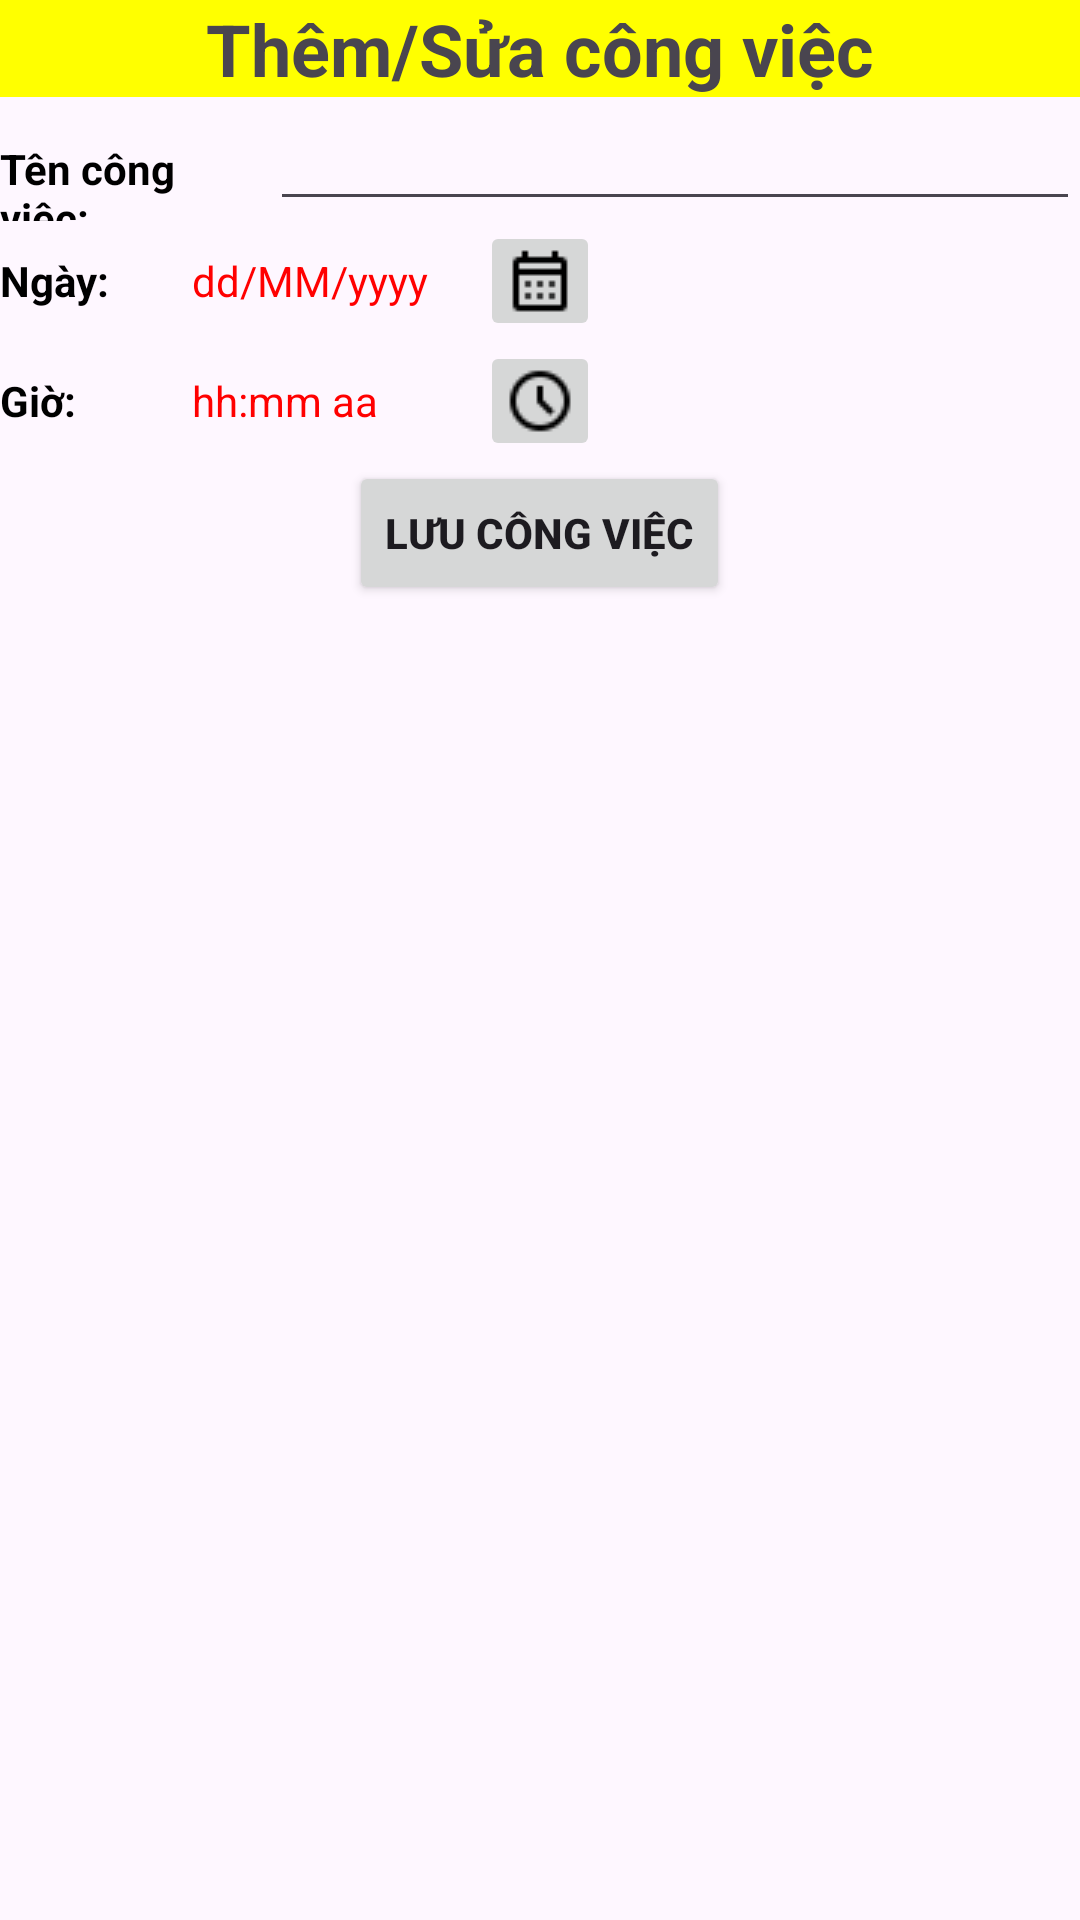

Screen size 1080*1920. Icon name, then its center in pixels as [x,y]:
calendar: [540,281]
schedule: [540,401]
